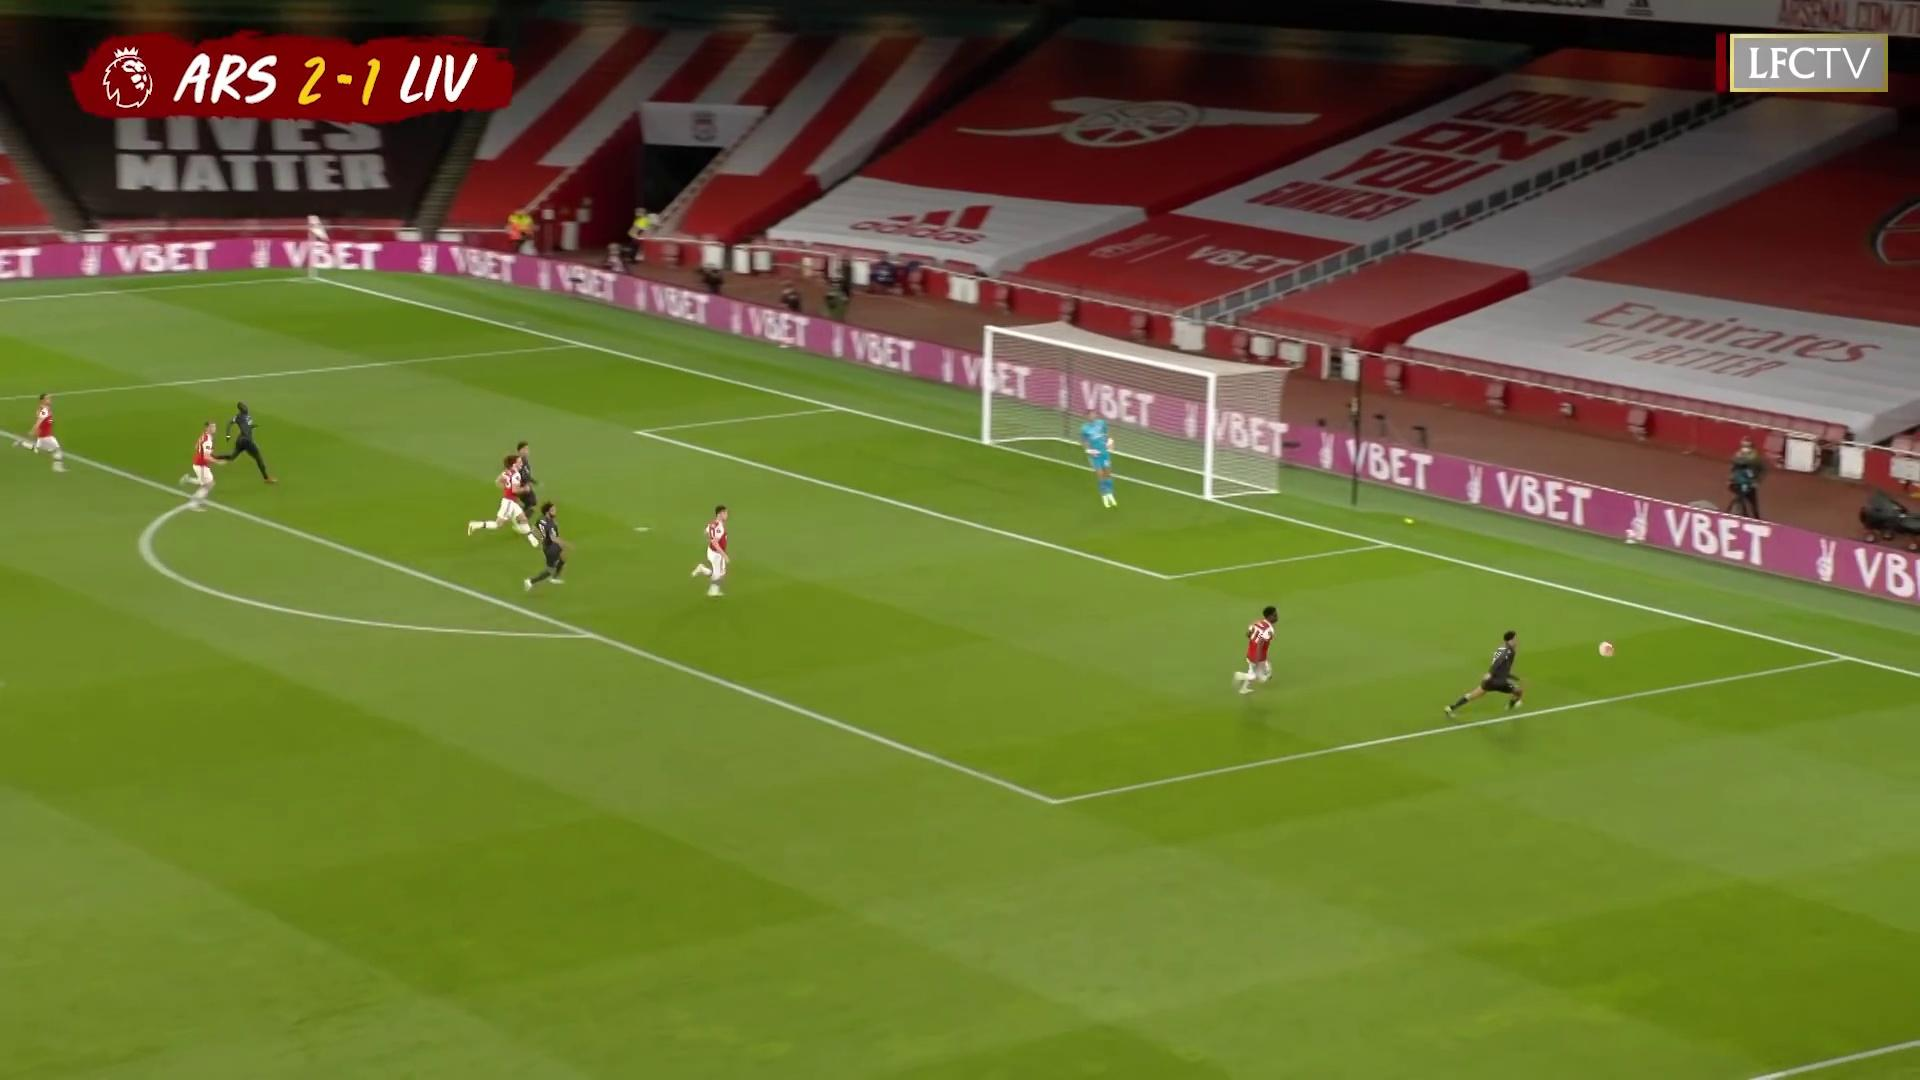ball: (1598, 640, 1617, 659)
